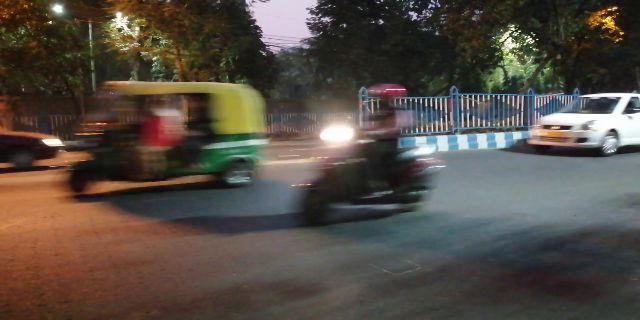Autorickshaw: (69, 80, 273, 191)
Car: (536, 85, 634, 161)
Motorbike: (294, 81, 443, 225)
